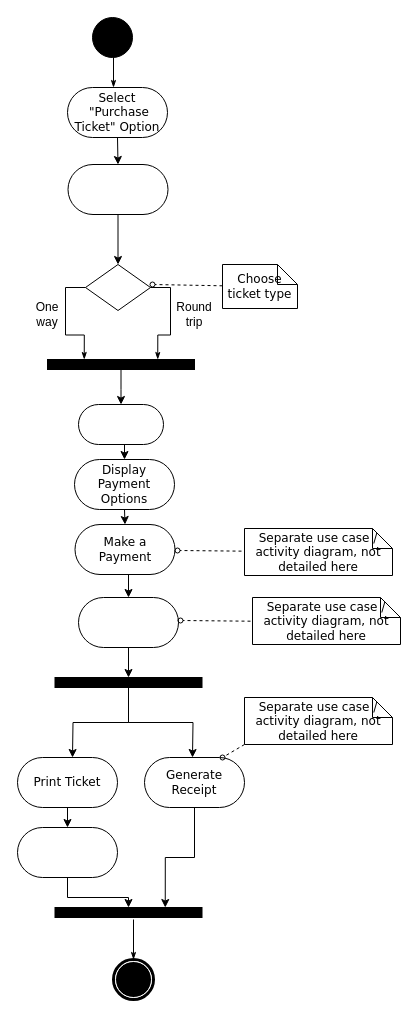
Image size: 418x1017. Some labels were removed from this diagram. The shapes that lost their labels are listed below. From the top down, each one's box as (x1, y1, x2, y2) in pixels, then its label:
(67, 164, 168, 214): Display Ticket Types
(78, 404, 164, 444): Confirm the choice
(78, 596, 178, 648): Provide Receipt Preference
(16, 826, 118, 878): Retrieve Ticket
